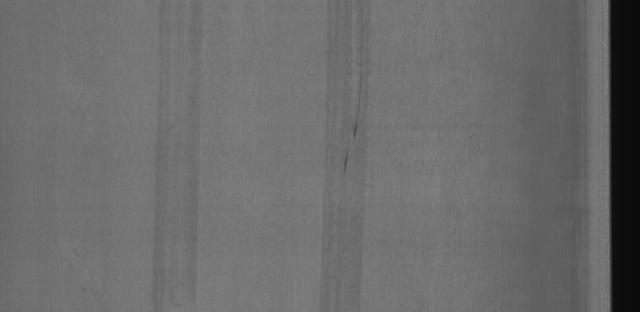rolled_pit: (146, 14, 218, 300), (321, 12, 370, 299)
